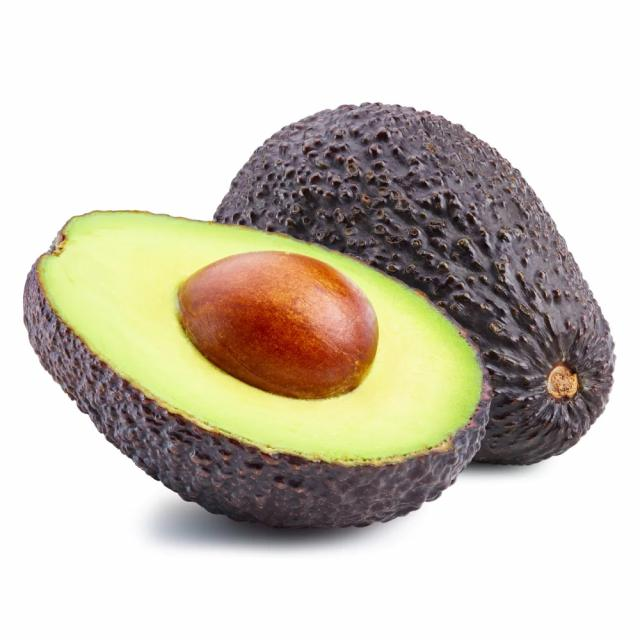avocado: (24, 212, 492, 531), (216, 105, 614, 465)
